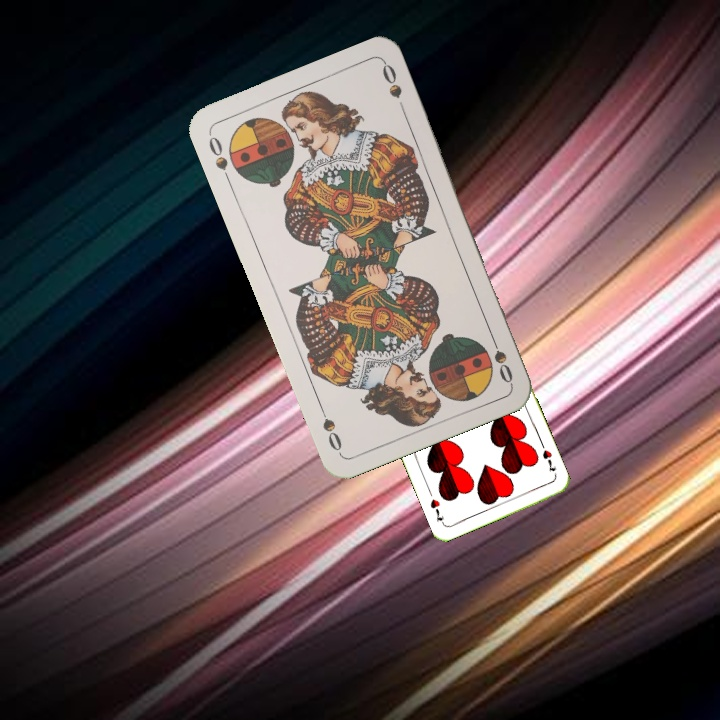H7: (538, 446, 558, 474)
SO: (485, 329, 516, 386), (204, 130, 234, 186)
